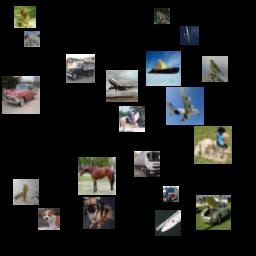airplane: (166, 87, 204, 125), (106, 70, 138, 102), (180, 26, 199, 45)
automobile: (2, 76, 40, 114), (196, 195, 231, 230)
bird: (194, 126, 232, 164), (13, 179, 39, 205), (202, 56, 228, 82)
deer: (14, 6, 36, 28)
dog: (83, 197, 115, 229), (38, 208, 60, 230)
frog: (154, 8, 170, 24)
ship: (146, 51, 181, 86), (155, 210, 181, 236)
truck: (66, 54, 95, 83), (134, 151, 160, 177), (163, 186, 179, 202)
